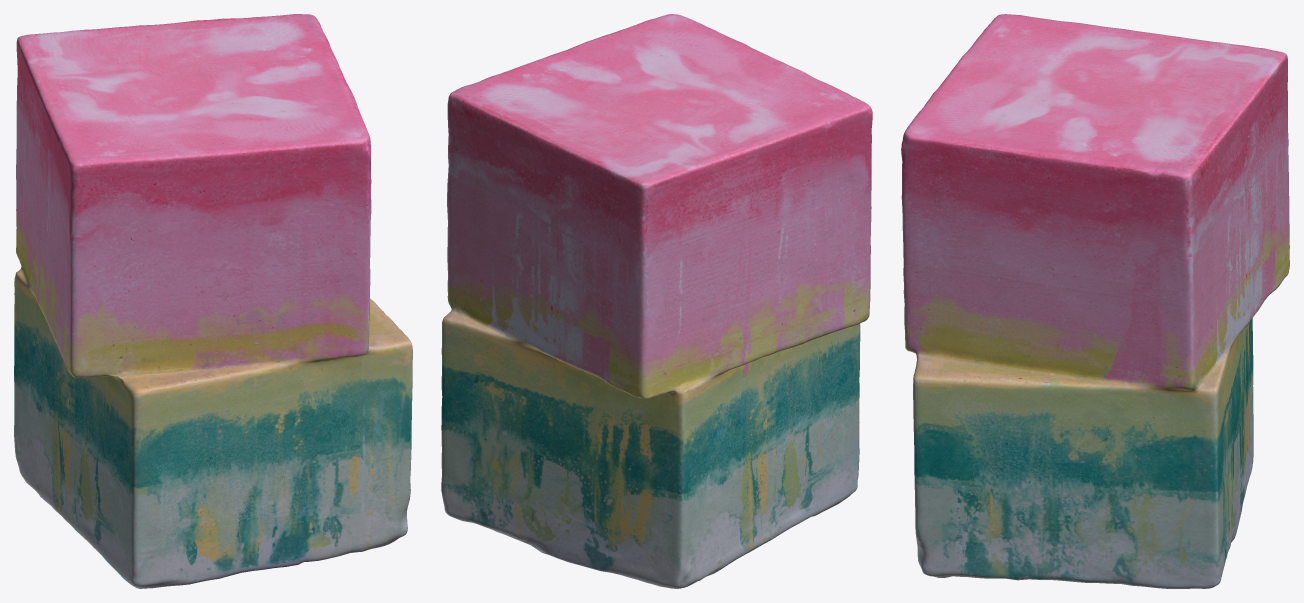
Rendered from KuengCaputo_SandChair_2018.glb.
3 renders of one model, left to right at view 1: azimuth 30°, elevation 25°; view 2: azimuth 150°, elevation 25°; view 3: azimuth 270°, elevation 25°, orthographic.
Visible parts, largest first — view 1: Retopo_Sandhocker_3.002; view 2: Retopo_Sandhocker_3.002; view 3: Retopo_Sandhocker_3.002.
Boxes of the visible parts, x1,y1,x2,y2 form: Retopo_Sandhocker_3.002: (14,14,412,588); Retopo_Sandhocker_3.002: (441,14,872,588); Retopo_Sandhocker_3.002: (901,14,1289,588).
Bounding box in the file's own units: 0.3684 × 0.4485 × 0.3667.
Materials: 1 (1 with a texture image).
